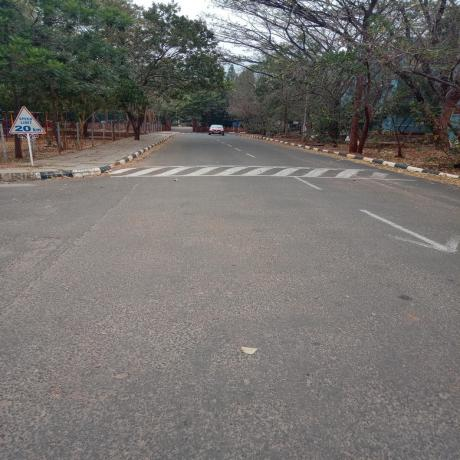Speed Bump: (97, 164, 416, 180)
